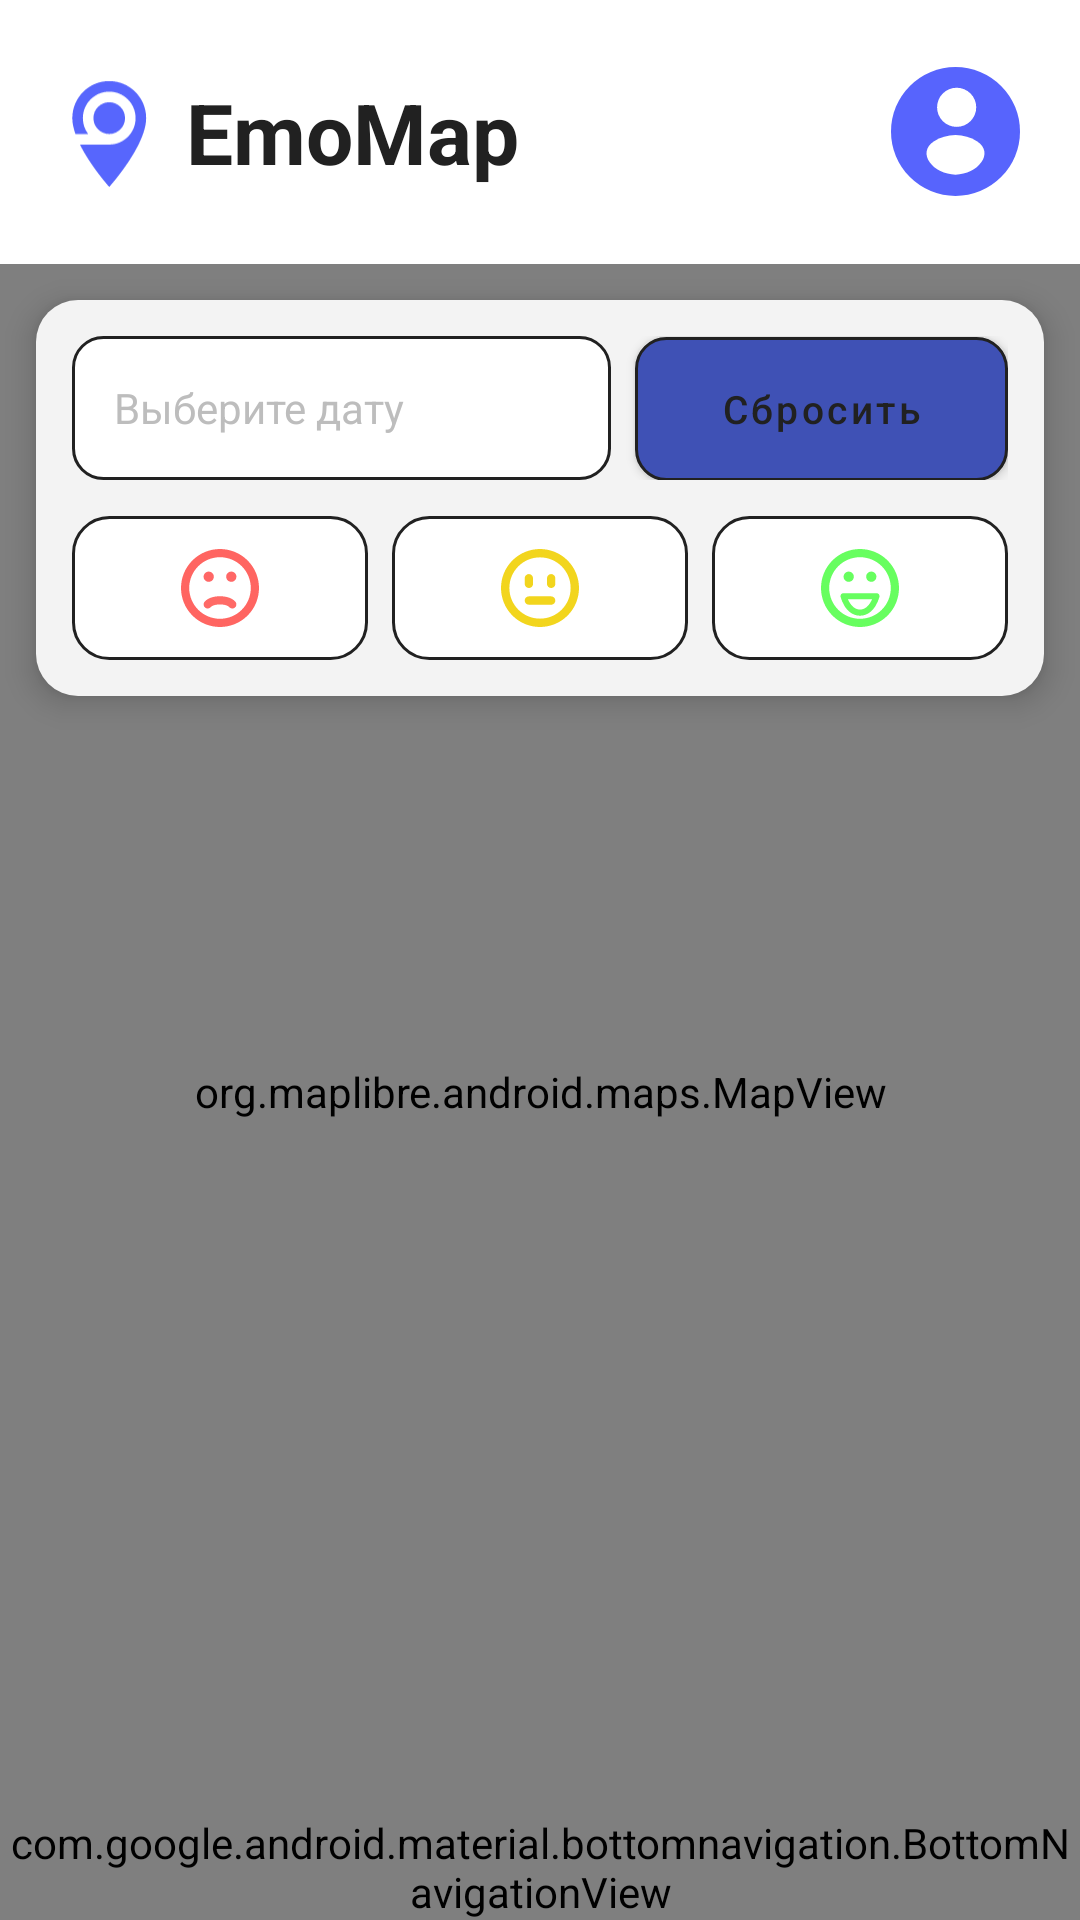

Icon bounding boxes for this 1080w x 1920h phone screenshot, format (x1=x1, y1=y1, x2=x2, y2=y2):
emotion happy: (x1=712, y1=516, x2=1008, y2=660)
emotion ok: (x1=392, y1=516, x2=688, y2=660)
emotion sad: (x1=72, y1=516, x2=368, y2=660)
Профиль: (x1=891, y1=67, x2=1020, y2=196)
